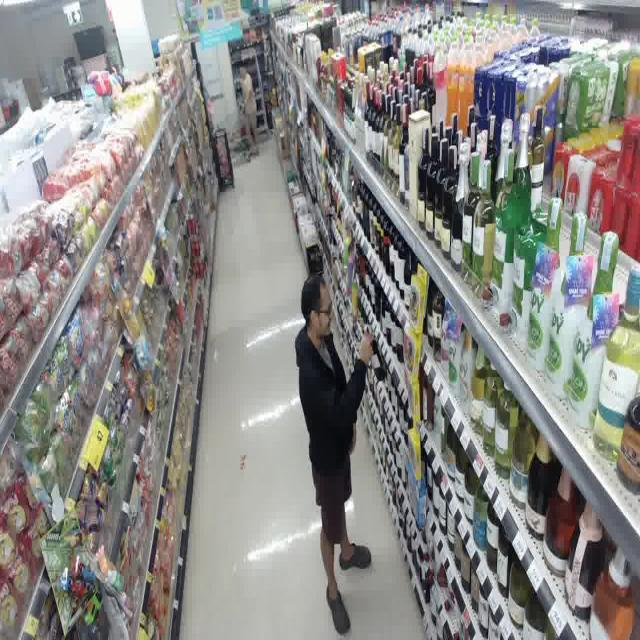pickup: (289, 262, 396, 640)
